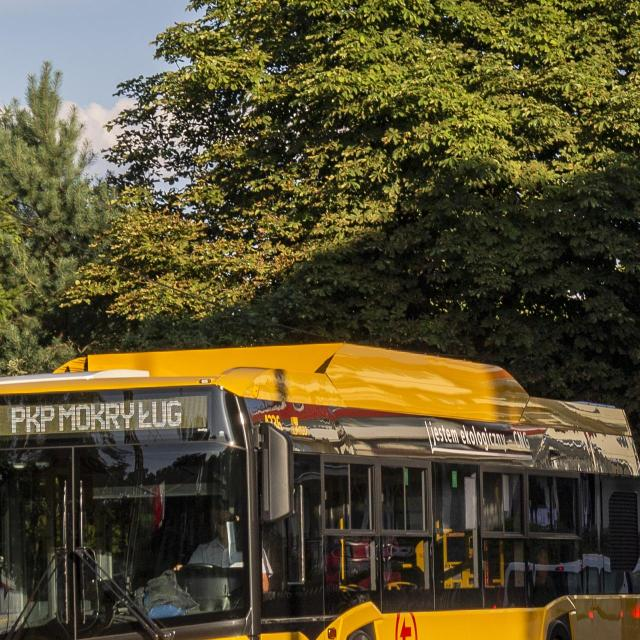Bus: (0, 344, 640, 640)
